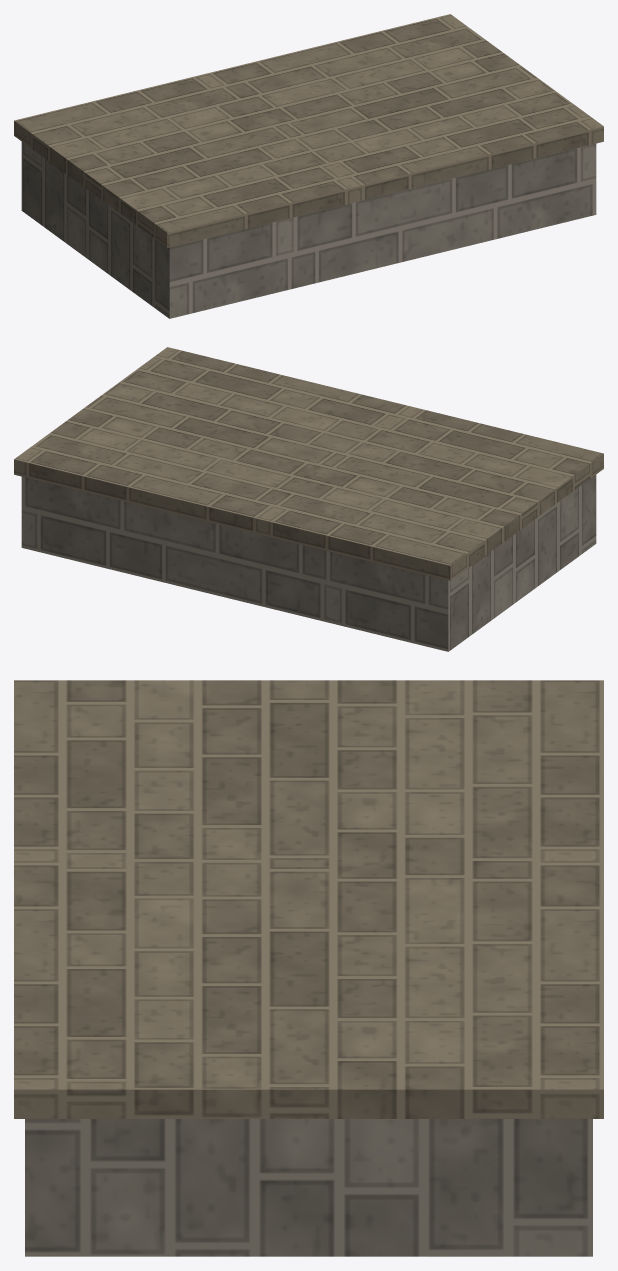
The model's file is SM_Art_KoaTradingPost.gltf.
The picture shows the model from 3 angles, top to bottom: view 1: azimuth 30°, elevation 25°; view 2: azimuth 150°, elevation 25°; view 3: azimuth 270°, elevation 25°; orthographic projection. The views are drawn at different scales.
Parts seen in each view (by area): view 1: SM_Art_KoaTradingPost; view 2: SM_Art_KoaTradingPost; view 3: SM_Art_KoaTradingPost.
Boxes of the visible parts, x1,y1,x2,y2 form: SM_Art_KoaTradingPost: [14, 14, 603, 318]; SM_Art_KoaTradingPost: [14, 347, 603, 651]; SM_Art_KoaTradingPost: [14, 680, 603, 1256].
Size of the model in its own units: 3.58 by 0.7 by 2.18.
2 materials, 2 textured.
